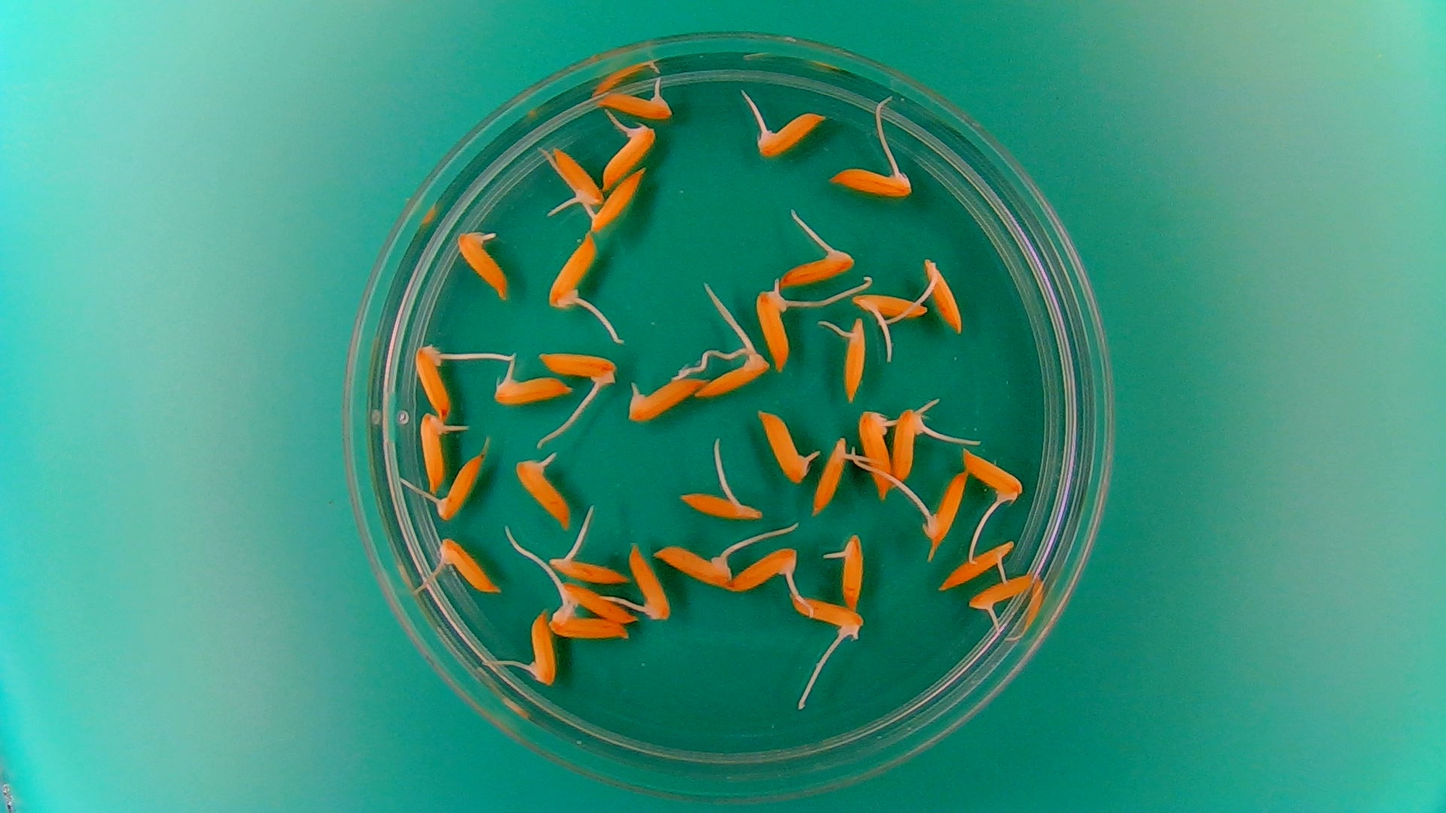yes: (755, 406, 819, 485), (919, 469, 971, 560), (622, 370, 706, 425), (513, 452, 572, 530), (653, 538, 733, 594), (541, 143, 604, 212), (545, 230, 597, 312), (773, 237, 856, 288), (456, 226, 511, 302), (590, 166, 651, 233), (939, 538, 1014, 591), (435, 534, 500, 595), (923, 257, 971, 336), (627, 540, 672, 623), (433, 451, 485, 521), (694, 352, 773, 398), (755, 285, 796, 373), (601, 123, 654, 191), (728, 545, 800, 595), (858, 407, 897, 497), (553, 583, 638, 624), (960, 447, 1021, 504), (831, 312, 869, 403), (890, 399, 929, 483), (789, 593, 865, 635), (752, 111, 821, 157), (493, 372, 573, 411), (520, 605, 557, 687), (813, 433, 850, 514), (541, 352, 620, 388), (834, 163, 912, 199), (548, 611, 632, 644), (972, 571, 1035, 614), (419, 411, 452, 491), (680, 490, 765, 519), (415, 343, 448, 416), (593, 90, 673, 119), (551, 558, 630, 586), (852, 290, 928, 319), (840, 534, 865, 613)
